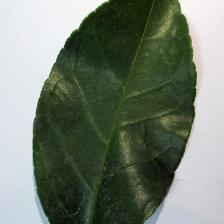healthy: (34, 2, 199, 224)
